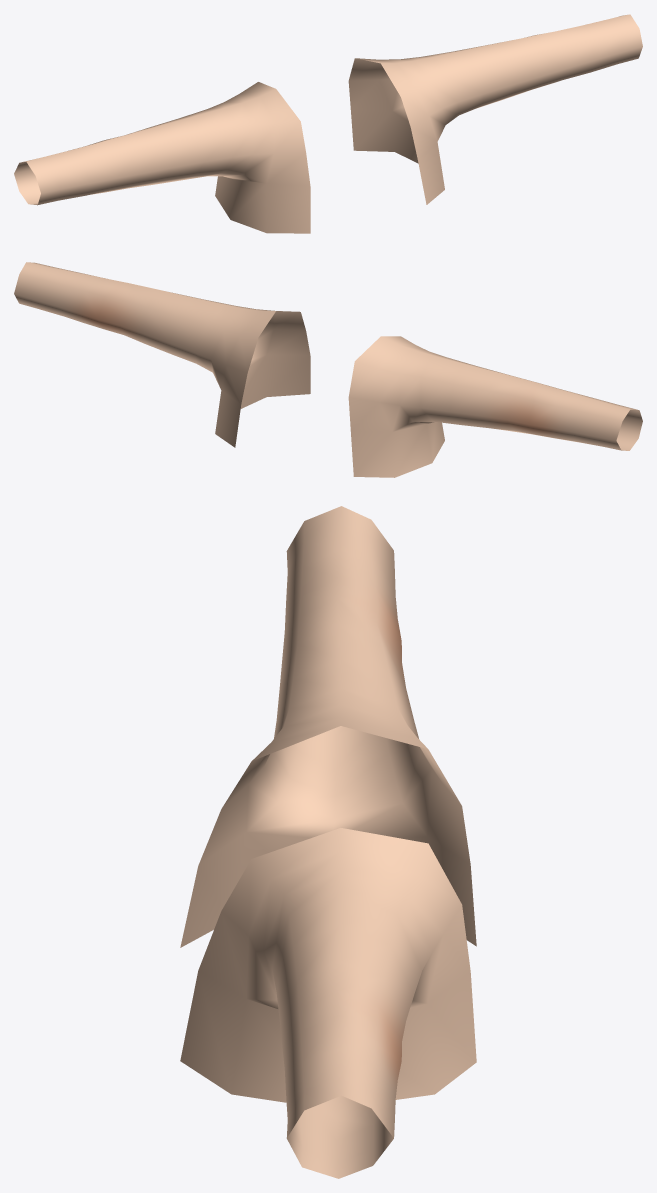
Rendered from Body_ArmB_2.fbx.
3 renders of one model, top to bottom at view 1: azimuth 30°, elevation 25°; view 2: azimuth 150°, elevation 25°; view 3: azimuth 270°, elevation 25°, orthographic. The views are drawn at different scales.
Parts seen in each view (by area): view 1: Body_ArmB_2; view 2: Body_ArmB_2; view 3: Body_ArmB_2.
Part boxes in pixels (bbox=[...]): Body_ArmB_2: bbox=[14, 14, 642, 233]; Body_ArmB_2: bbox=[14, 262, 642, 477]; Body_ArmB_2: bbox=[180, 506, 476, 1178].
Size of the model in its own units: 95.86 by 17.74 by 20.37.
